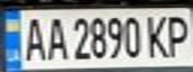0: (124, 12, 145, 60)
2: (69, 12, 90, 61)
8: (87, 12, 109, 60)
9: (106, 12, 127, 60)
A: (18, 14, 48, 62), (42, 12, 69, 62)
K: (145, 11, 172, 60)
P: (163, 11, 193, 58)
